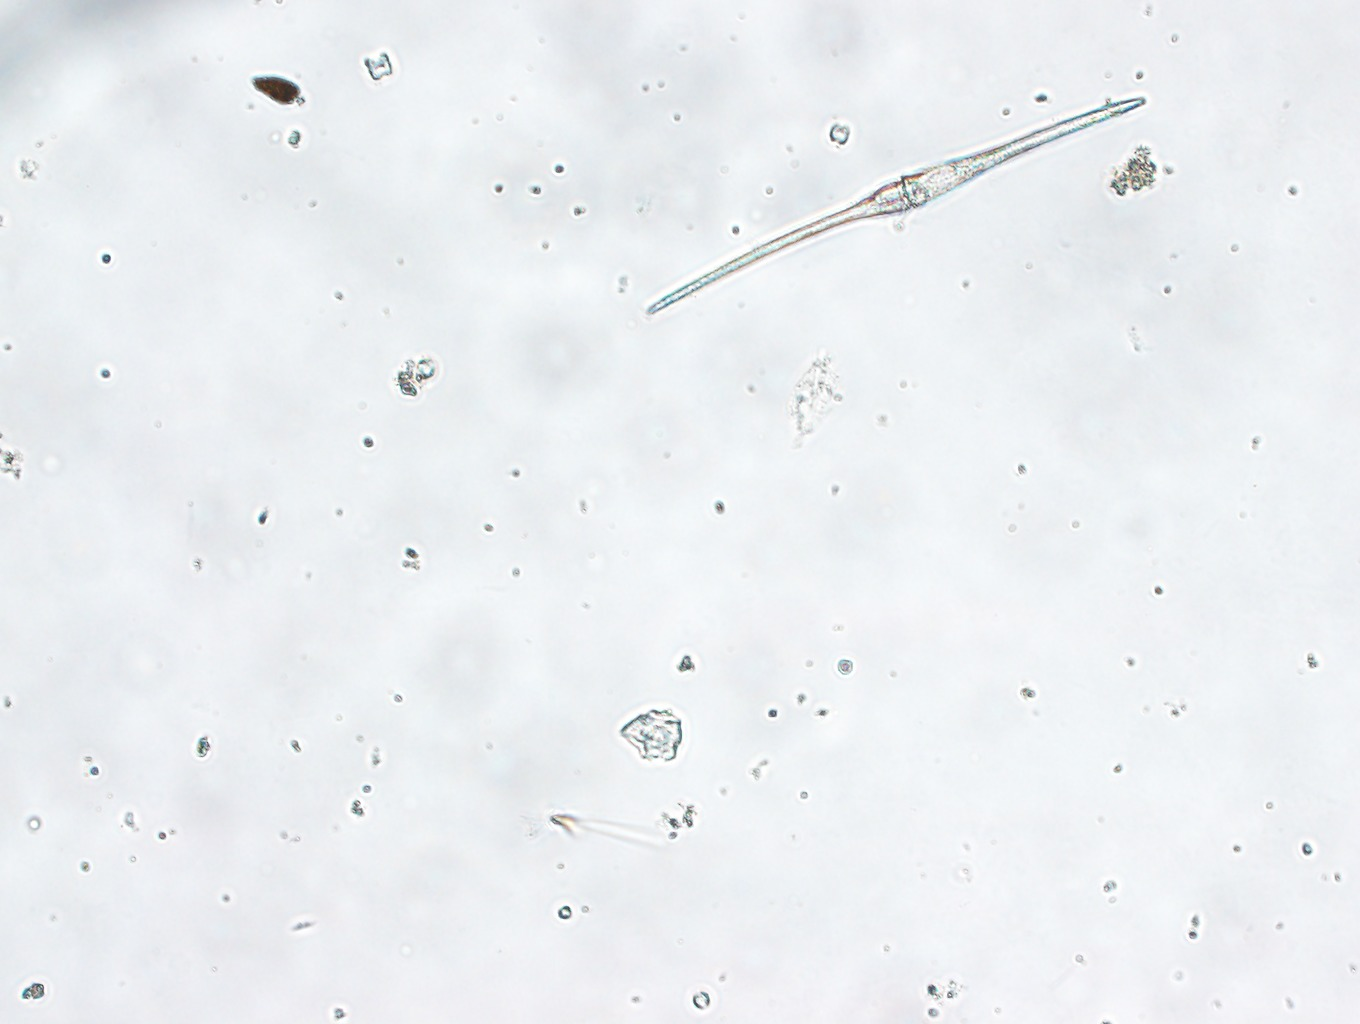ceratium fusus: (629, 87, 1149, 322)
